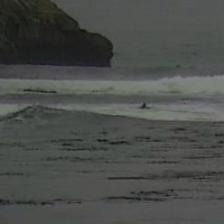surfer: (139, 103, 150, 109)
